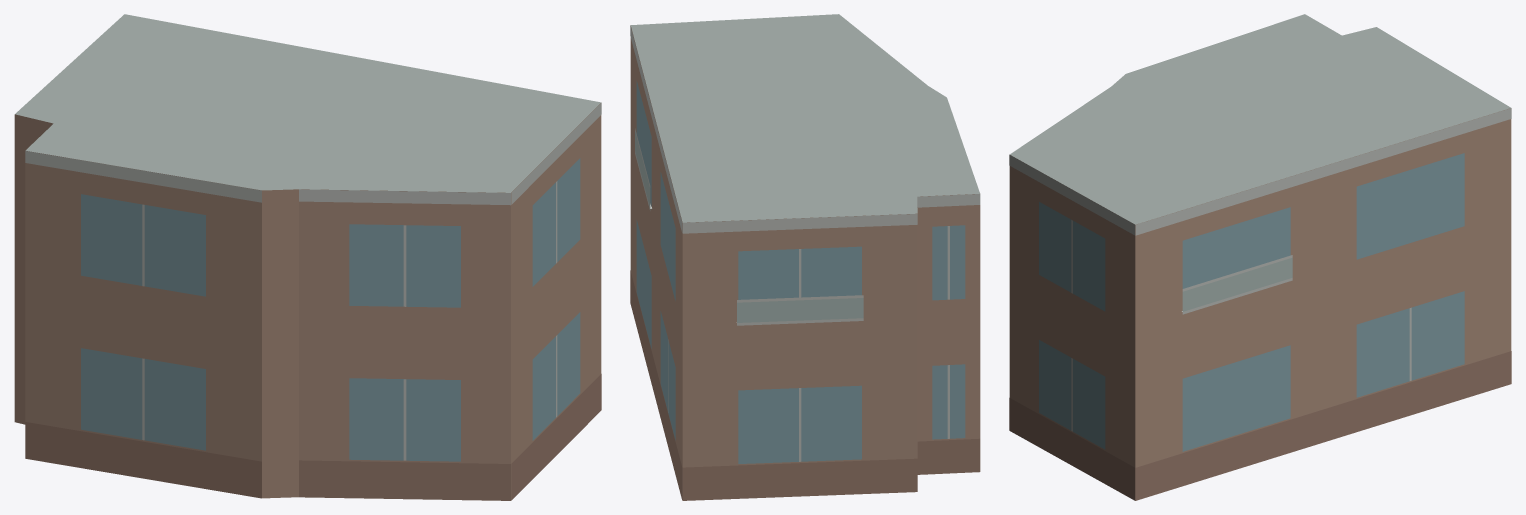
File: survey-upis-32462338.glb
The picture shows the model from 3 angles, left to right: view 1: azimuth 30°, elevation 25°; view 2: azimuth 150°, elevation 25°; view 3: azimuth 270°, elevation 25°; orthographic projection. The views are drawn at different scales.
Visible parts, largest first — view 1: survey-upis-32462338.tmp; view 2: survey-upis-32462338.tmp; view 3: survey-upis-32462338.tmp.
Part boxes in pixels (<box>): survey-upis-32462338.tmp: <box>14,14,601,500</box>; survey-upis-32462338.tmp: <box>630,14,980,500</box>; survey-upis-32462338.tmp: <box>1009,14,1511,500</box>.
Size of the model in its own units: 9.99 by 6.1 by 10.06.
